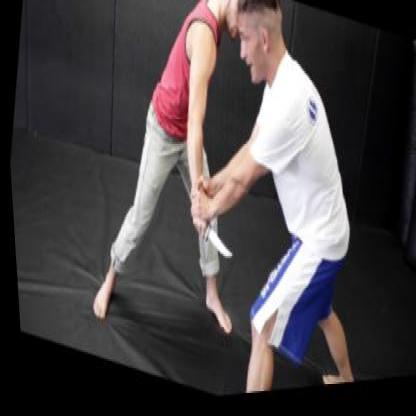knife: (181, 212, 234, 270)
